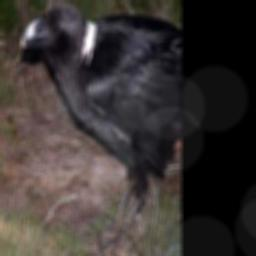Crow: (20, 0, 180, 256)
